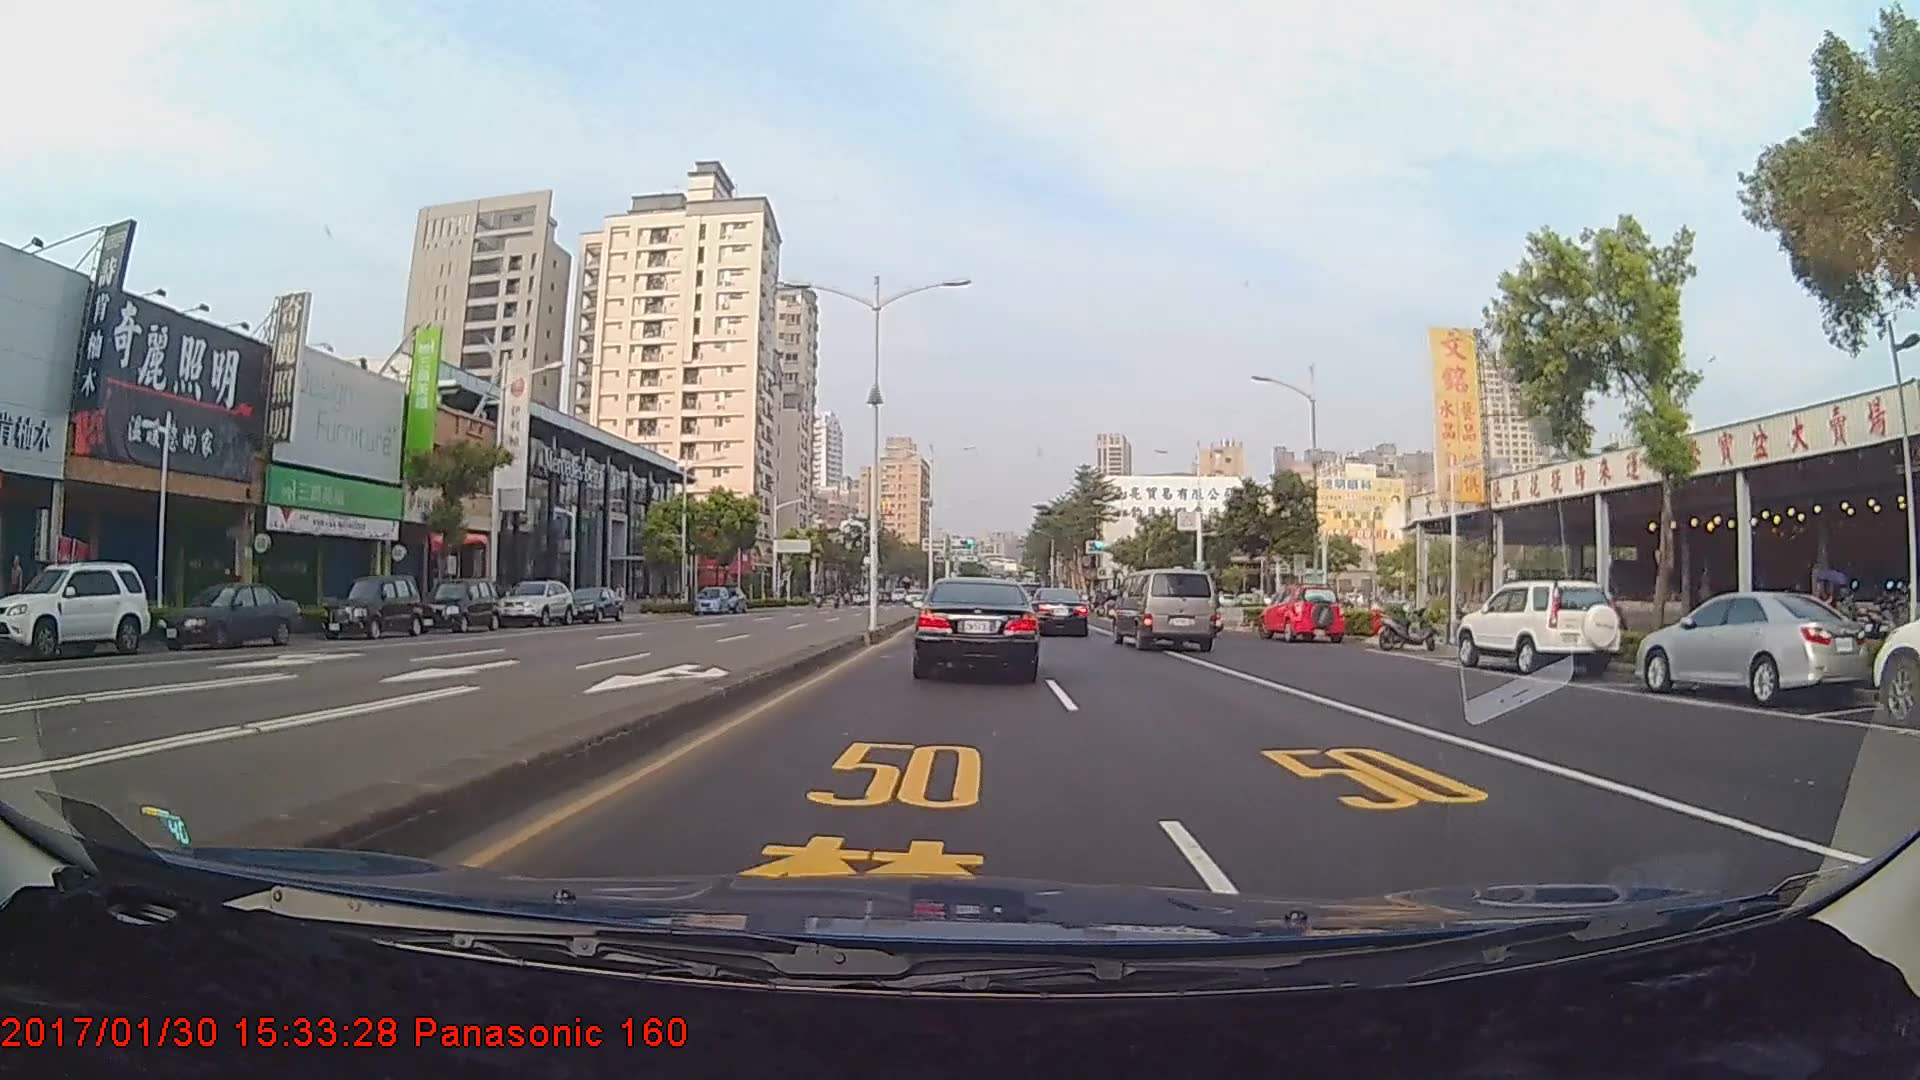vehicle: (1636, 584, 1876, 703), (1453, 578, 1625, 679), (3, 560, 149, 659), (913, 576, 1040, 680), (154, 582, 302, 651), (1113, 568, 1218, 651), (1867, 570, 1920, 727), (318, 575, 425, 641), (1259, 583, 1342, 644), (415, 580, 498, 636), (493, 578, 576, 628), (1027, 585, 1089, 637), (560, 587, 625, 622), (692, 584, 731, 613)
